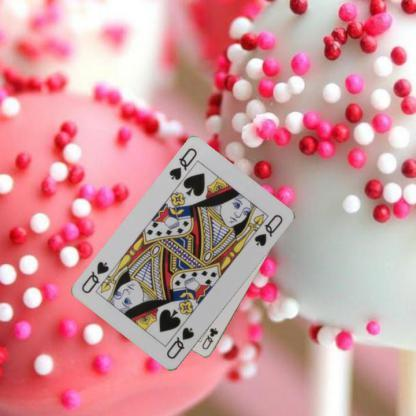Qc: (200, 326, 220, 352)
Qs: (163, 324, 196, 362), (166, 145, 199, 182)
